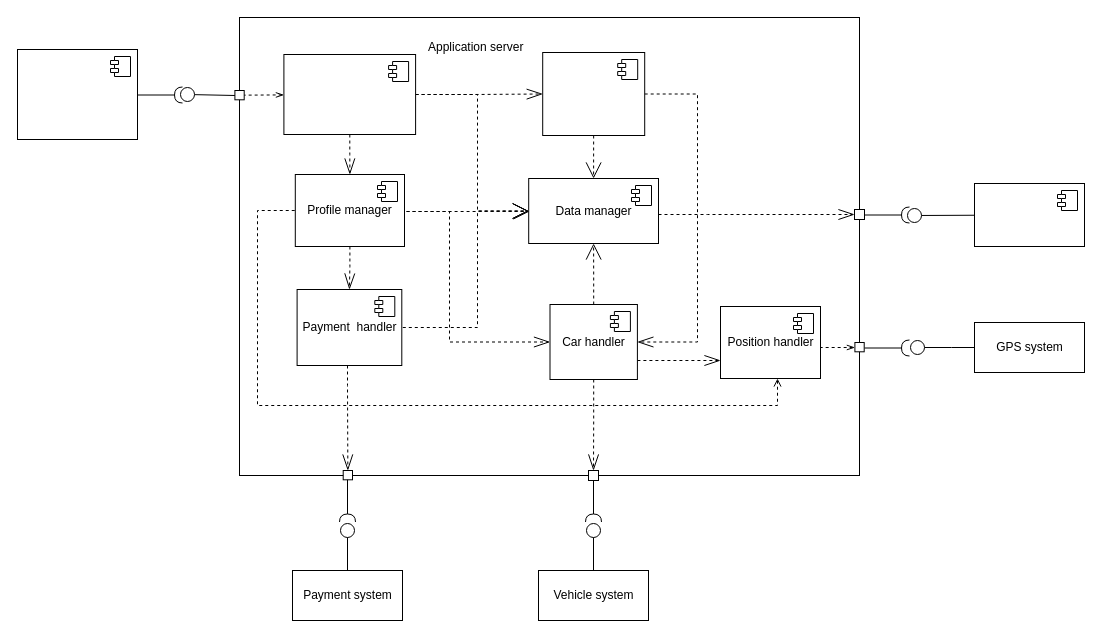
This 1102x638 diagram has some shape labels left out. The shapes that lost their labels are listed below. From the top down, each one's box as (x1, y1, x2, y2) in pixels, then its label:
(16, 48, 138, 140): Web Browser
(283, 54, 416, 134): Client request manager
(542, 52, 645, 136): Reserve manager
(974, 182, 1084, 246): DBMS
